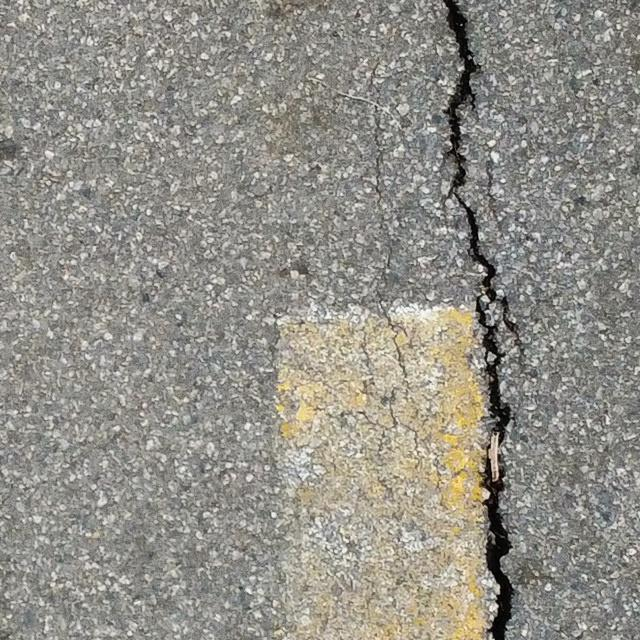LongitudinalCrack: (439, 1, 519, 640)
